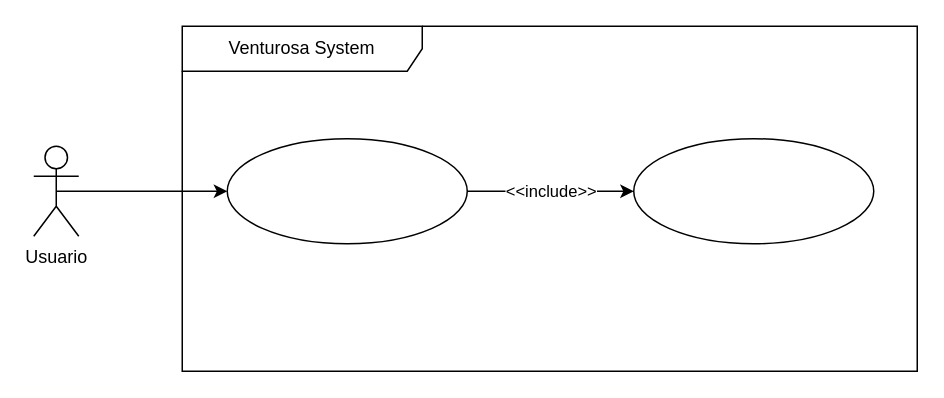
Some shapes in this 944 by 398 pixel diagram are drawn without their labels. Each missing label, with the box of its shape:
Consultar Historial: (632, 137, 874, 244)
Visualizar el estado de la laguna: (226, 137, 467, 244)
